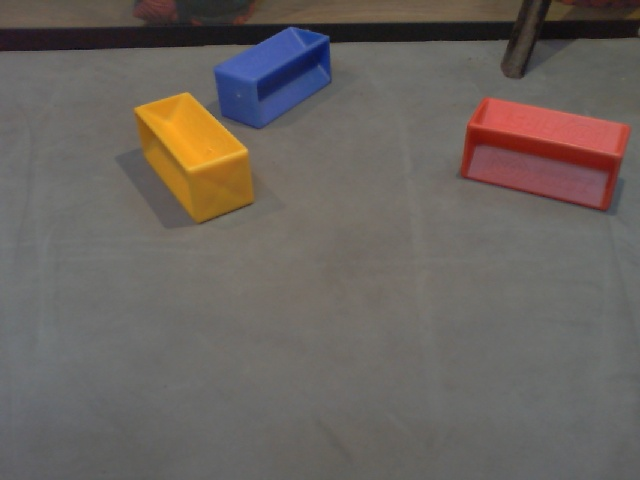BlueSample: (214, 24, 333, 132)
RedSample: (455, 93, 631, 219)
YellowSample: (131, 88, 259, 230)
